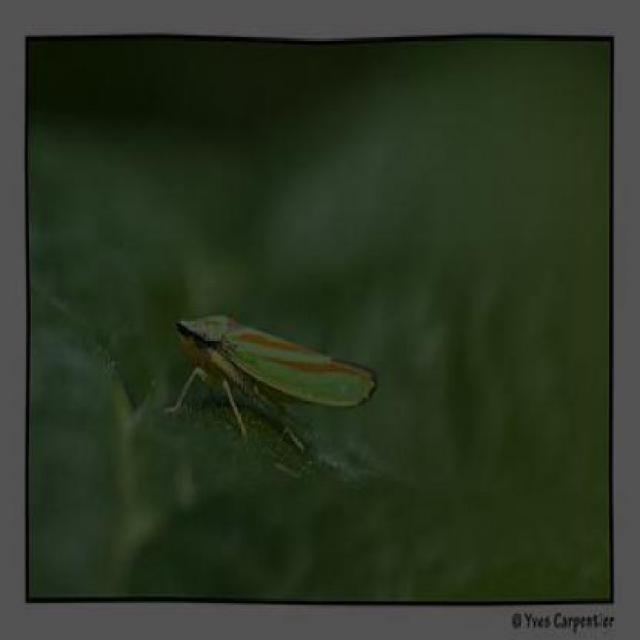green-leafhopper: (172, 304, 385, 458)
